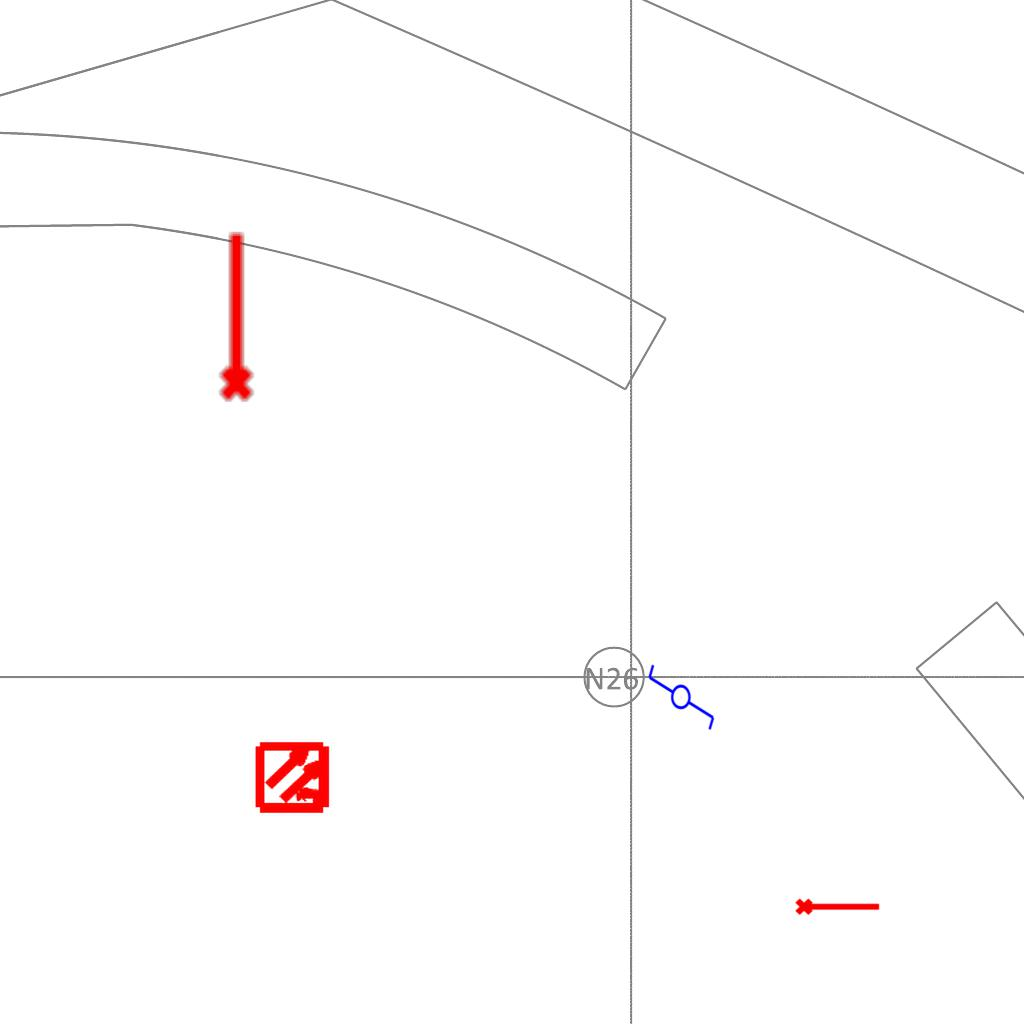ASR_Ansaugoeffnung: (211, 228, 257, 404), (794, 894, 882, 917)
OT_Multisensormelder_(Kombination_RMO_WMD): (238, 721, 351, 834)
Wechselschalter: (646, 654, 718, 732)
